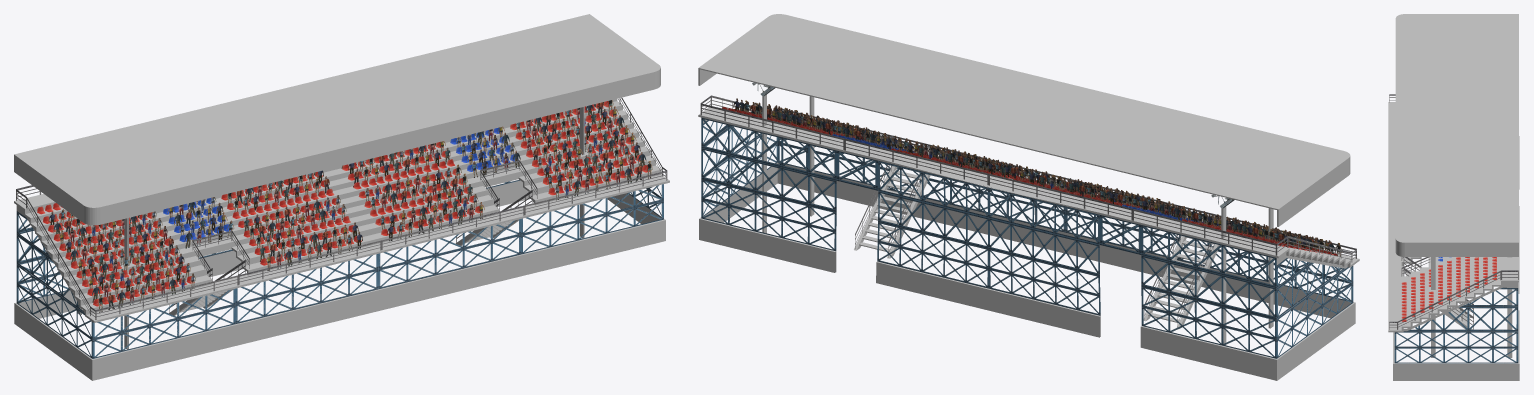
Rendered from GrandStand-09-m.fbx.
The picture shows the model from 3 angles, left to right: view 1: azimuth 30°, elevation 25°; view 2: azimuth 150°, elevation 25°; view 3: azimuth 270°, elevation 25°; orthographic projection. The views are drawn at different scales.
Visible parts, largest first — view 1: GrandStand-09-m, Audience; view 2: GrandStand-09-m, Audience; view 3: GrandStand-09-m.
Boxes of the visible parts, x1,y1,x2,y2 form: GrandStand-09-m: (14,14,669,380); Audience: (48,100,652,312); GrandStand-09-m: (698,14,1359,380); Audience: (733,98,1342,256); GrandStand-09-m: (1388,14,1519,380).
Size of the model in its own units: 6000 by 1694 by 1459.
